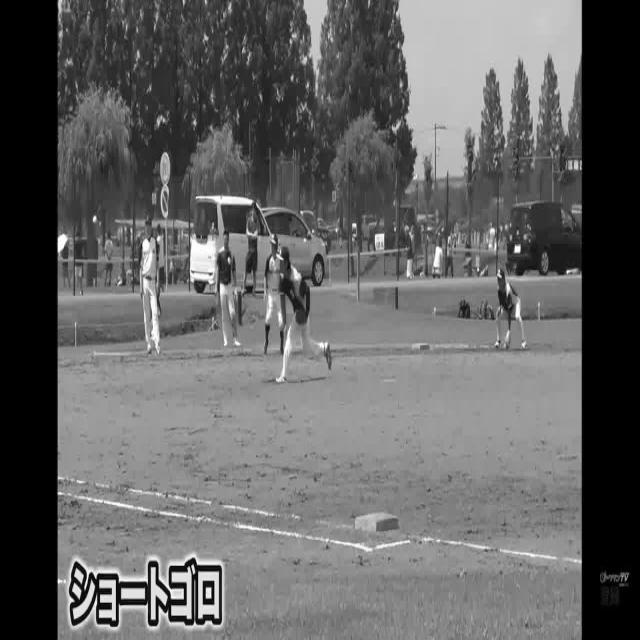base: (355, 512, 400, 534)
baseball: (92, 216, 98, 226)
baseball_glove: (293, 304, 309, 324)
shoe: (322, 338, 333, 368), (274, 373, 289, 383)
